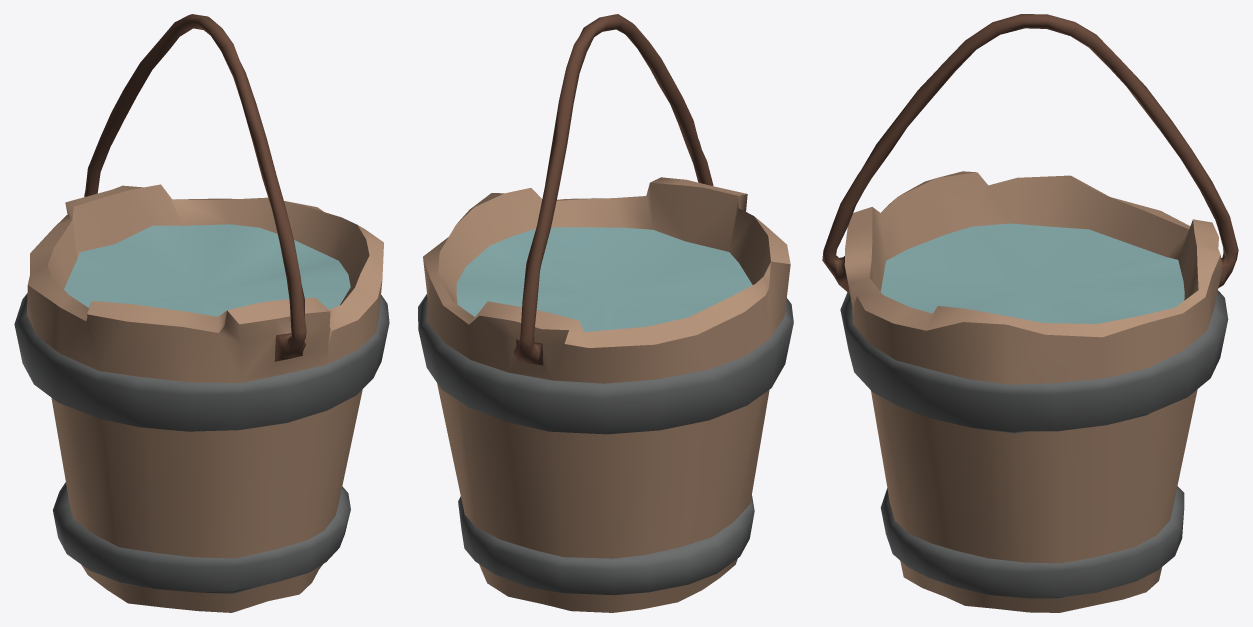
Rendered from wiadro_z_woda.fbx.
The picture shows the model from 3 angles, left to right: view 1: azimuth 30°, elevation 25°; view 2: azimuth 150°, elevation 25°; view 3: azimuth 270°, elevation 25°; orthographic projection. The views are drawn at different scales.
Parts seen in each view (by area): view 1: F_wiadro_bez_wody_01; view 2: F_wiadro_bez_wody_01; view 3: F_wiadro_bez_wody_01.
Boxes of the visible parts, bbox=[...] form: F_wiadro_bez_wody_01: bbox=[14, 14, 389, 612]; F_wiadro_bez_wody_01: bbox=[418, 14, 793, 612]; F_wiadro_bez_wody_01: bbox=[822, 14, 1238, 612].
Size of the model in its own units: 20.49 by 32.67 by 22.29.
1 material, 1 textured.
